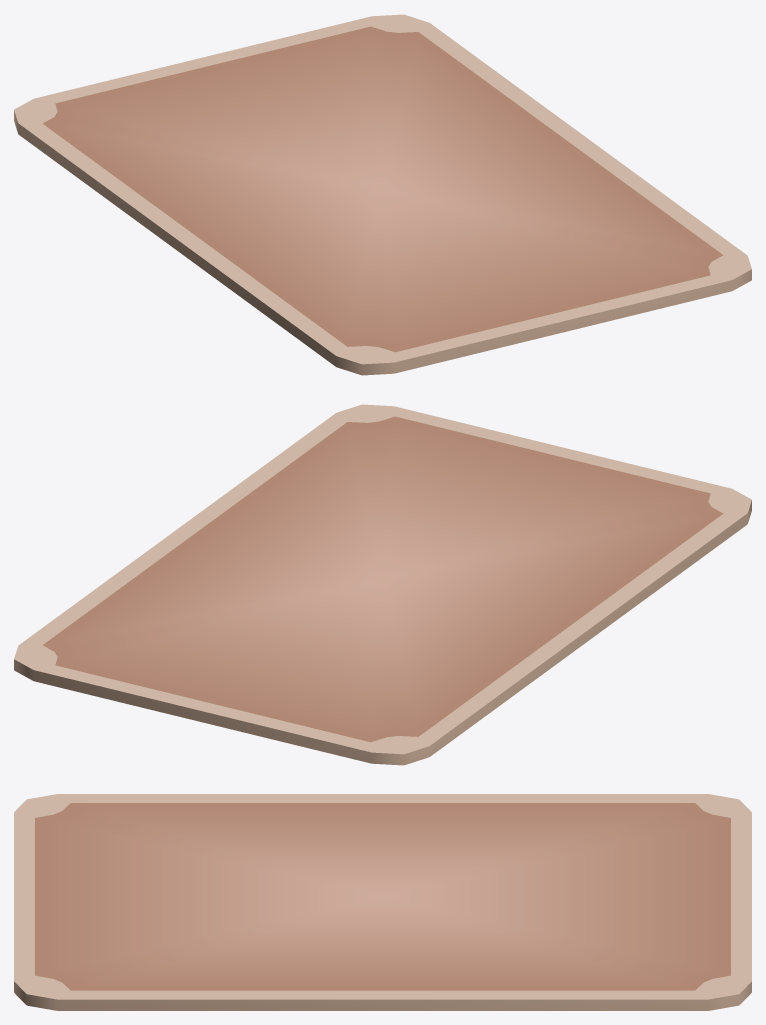
The model's file is TarotCard3.fbx.
3 views of the same model, one above another, from view 1: azimuth 30°, elevation 25°; view 2: azimuth 150°, elevation 25°; view 3: azimuth 270°, elevation 25° (orthographic). The views are drawn at different scales.
Visible parts, largest first — view 1: TarotCard3; view 2: TarotCard3; view 3: TarotCard3.
Boxes of the visible parts, x1,y1,x2,y2 form: TarotCard3: (14,14,751,375); TarotCard3: (14,404,751,765); TarotCard3: (14,794,751,1010).
Bounding box in the file's own units: 5.8 × 0.15 × 8.8.
